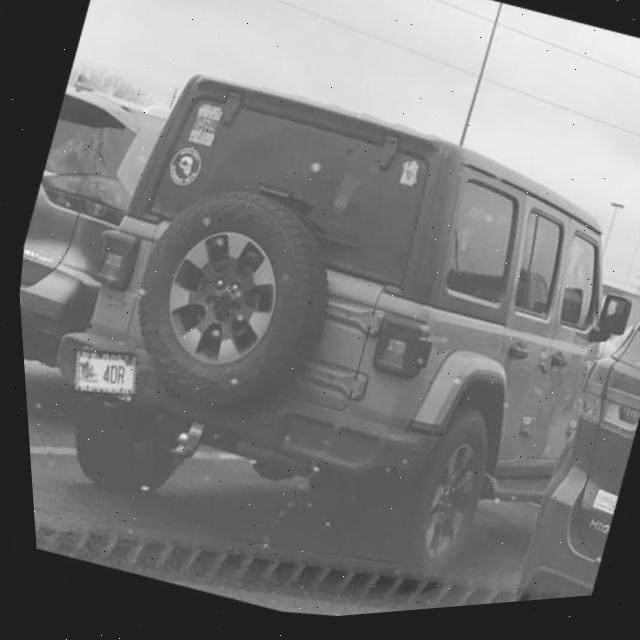LicensePlate: (69, 352, 132, 399)
